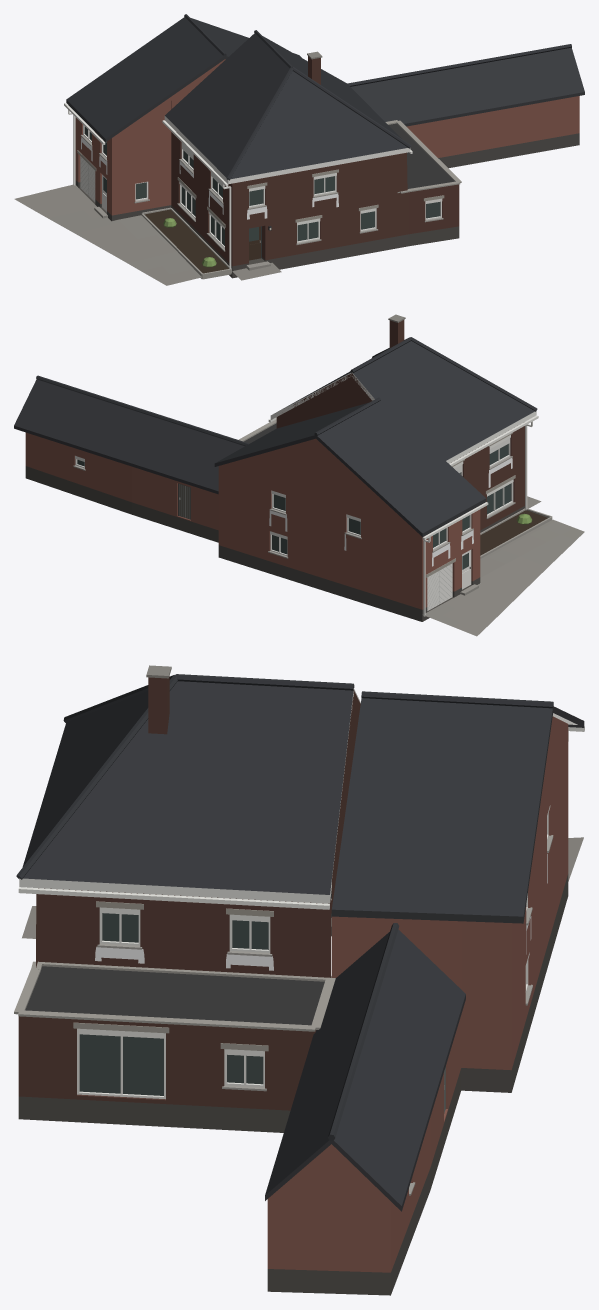
File: vh_seventies.glb
3 views of the same model, one above another, from view 1: azimuth 30°, elevation 25°; view 2: azimuth 150°, elevation 25°; view 3: azimuth 270°, elevation 25° (orthographic). The views are drawn at different scales.
Visible parts, largest first — view 1: vh_roof, vh_brick, vh_brick2, vh_trim, vh_paving, vh_stone, vh_frames_small, vh_glass, vh_streaks_small; view 2: vh_roof, vh_brick2, vh_trim, vh_paving, vh_brick, vh_frames_small, vh_stone, vh_glass, vh_streaks_small; view 3: vh_roof, vh_brick2, vh_brick, vh_trim, vh_stone, vh_glass, vh_frames_small, vh_streaks_small.
Part boxes in pixels (x1,y1,x2,y2): vh_roof: (66,14,584,180); vh_brick: (171,56,459,266); vh_brick2: (75,59,579,215); vh_trim: (66,55,584,278); vh_paving: (14,184,281,285); vh_stone: (77,51,461,279); vh_frames_small: (64,103,441,268); vh_glass: (84,126,440,245); vh_streaks_small: (81,137,338,219); vh_roof: (14,337,537,533); vh_brick2: (25,432,480,609); vh_trim: (14,372,547,621); vh_paving: (423,496,584,636); vh_brick: (276,320,524,530); vh_frames_small: (75,415,538,616); vh_stone: (73,314,552,595); vh_glass: (77,444,511,569); vh_streaks_small: (269,458,512,566); vh_roof: (16,674,553,1205); vh_brick2: (267,716,568,1272); vh_brick: (18,676,360,1110); vh_trim: (18,688,584,1295); vh_stone: (14,665,553,1195); vh_glass: (79,891,331,1095); vh_frames_small: (18,726,584,1111); vh_streaks_small: (95,854,547,970).
Bounding box in the file's own units: 31.55 × 11.13 × 16.55.
